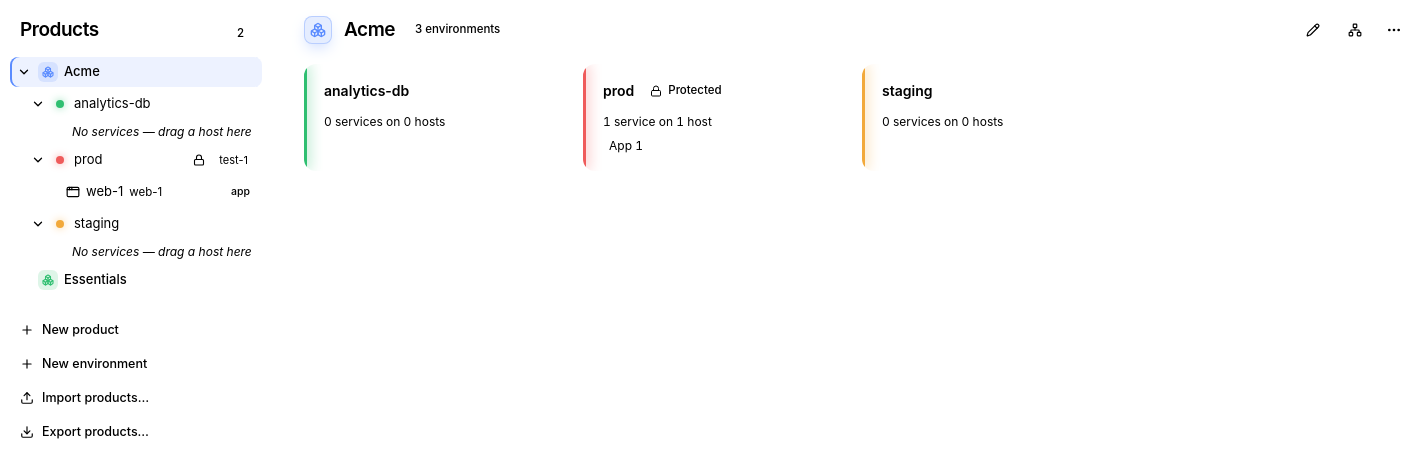
it: products page › renders the tree
Click the 1st element with test id "tree-chevron" at (24, 72), box [16, 64, 32, 80]
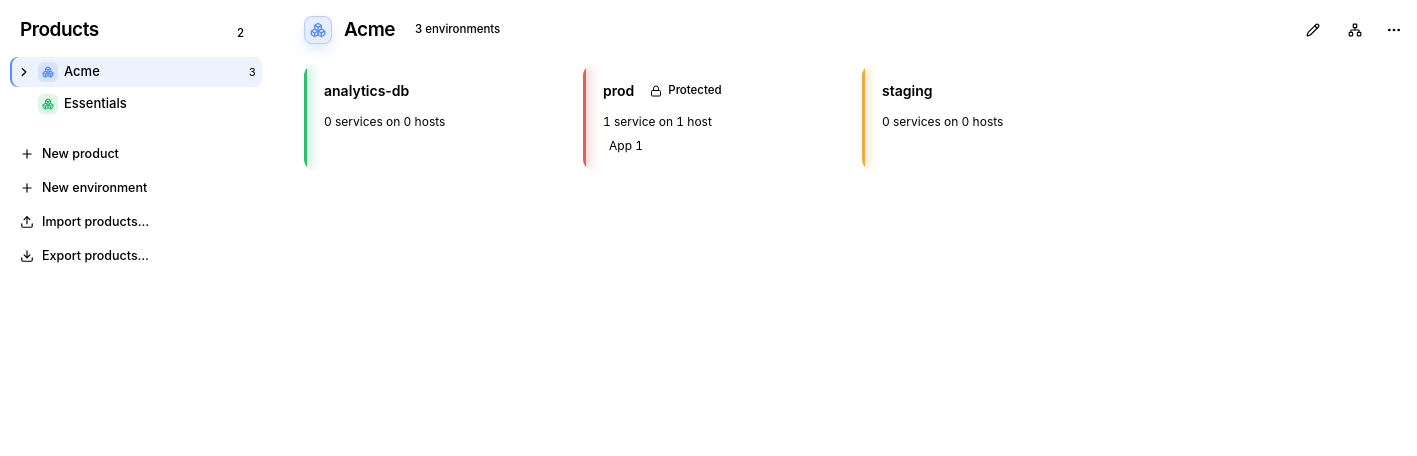
Now the list item "Acme 3" is collapsed, box [10, 56, 262, 88]
